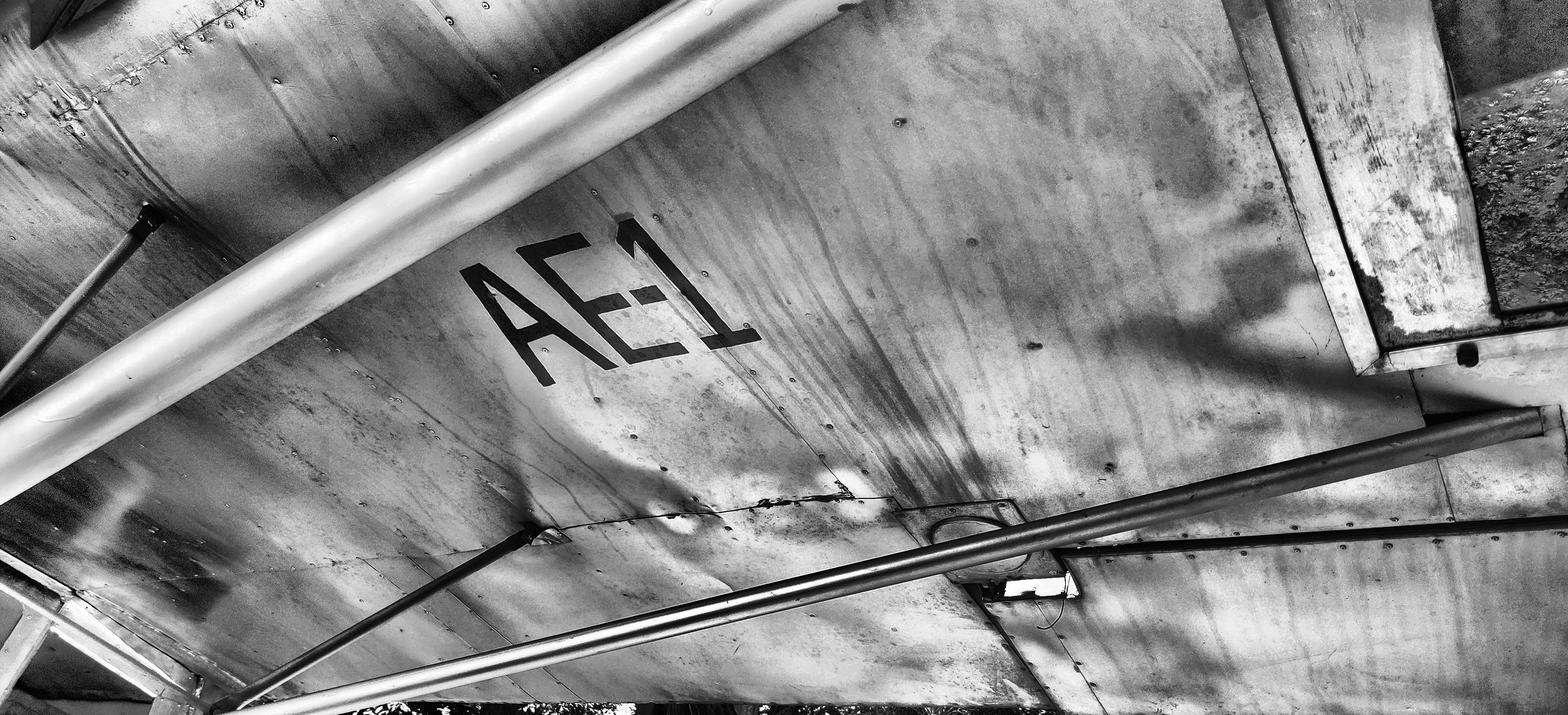dent: (535, 394, 717, 513), (645, 499, 691, 538)
